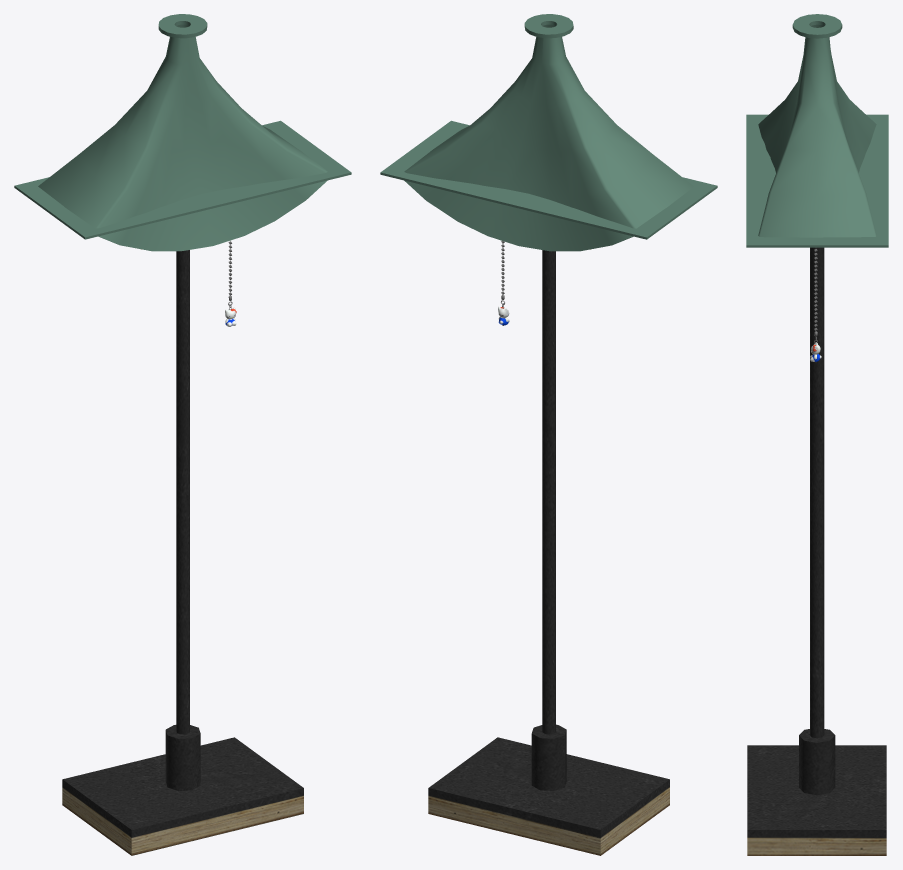
File: 10_AltecLamp_Green.glb
3 views of the same model, side by side, from view 1: azimuth 30°, elevation 25°; view 2: azimuth 150°, elevation 25°; view 3: azimuth 270°, elevation 25° (orthographic).
Parts seen in each view (by area): view 1: AltecLamp_Green_baseMesh; view 2: AltecLamp_Green_baseMesh; view 3: AltecLamp_Green_baseMesh.
Part boxes in pixels (left/top/right/bottom): AltecLamp_Green_baseMesh: left=14, top=14, right=351, bottom=855; AltecLamp_Green_baseMesh: left=380, top=14, right=717, bottom=855; AltecLamp_Green_baseMesh: left=746, top=14, right=888, bottom=855.
Bounding box in the file's own units: 0.5658 × 1.59 × 0.2601.
Materials: 2 (2 with a texture image).
